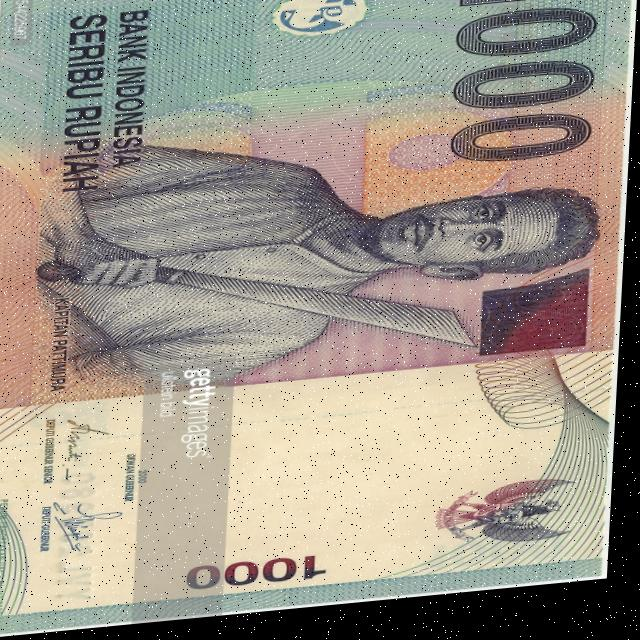1000IndonesianRupiah: (0, 0, 628, 633)
